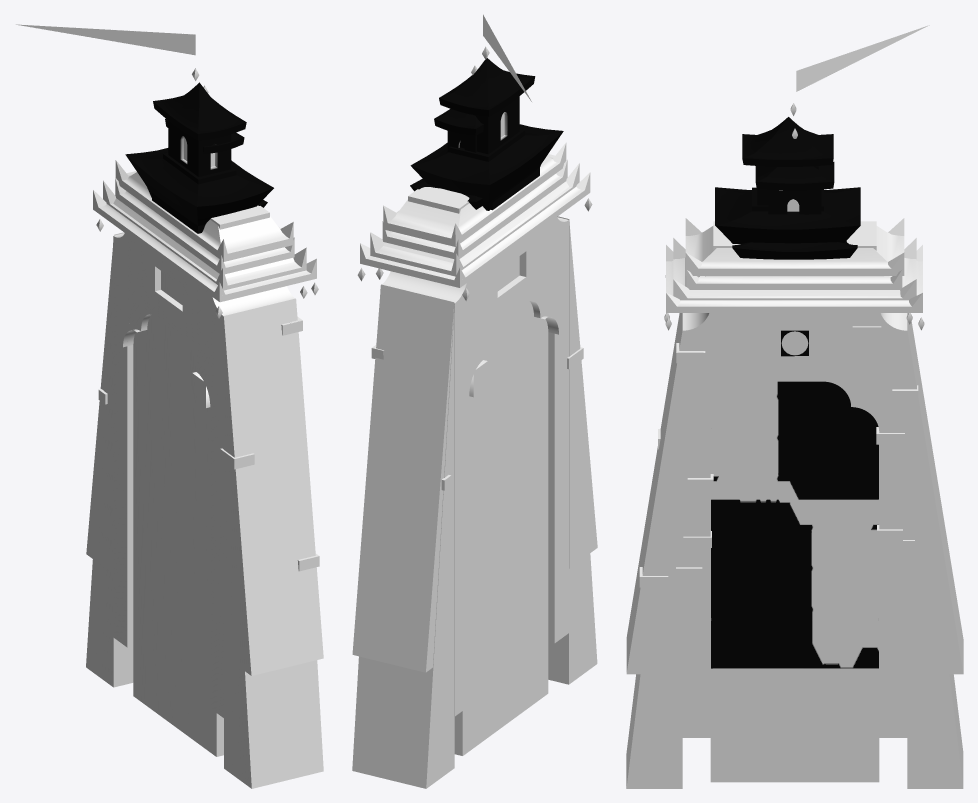
Rendered from SeaGate_ExitScene.fbx.
3 renders of one model, left to right at view 1: azimuth 30°, elevation 25°; view 2: azimuth 150°, elevation 25°; view 3: azimuth 270°, elevation 25°, orthographic. The views are drawn at different scales.
Visible parts, largest first — view 1: Whitebox_Slope (×4), DepthFadeCube, Rooftop_Rescue_Huge, Whitebox_cube (6), Whitebox_cube (13), Rooftops_Four_Point_Village_Middle_Wide, Rooftops_Four_Point_Village_Middle (1), Rooftops_Four_Point_Village_Middle_Wide (1), Rooftops_Four_Point_Village_Middle, Flag, Whitebox_cube (12), Whitebox_cube (11) (+5 smaller); view 2: Whitebox_Slope (×4), DepthFadeCube, Rooftop_Rescue_Huge (×2), Whitebox_cube (6) (×2), Whitebox_cube (13), Rooftops_Four_Point_Village_Middle_Wide, Rooftops_Four_Point_Village_Middle (1), Rooftops_Four_Point_Village_Middle_Wide (1), Rooftops_Four_Point_Village_Middle, Whitebox_cube (12), Whitebox_cube (11), Whitebox_Concave (+5 smaller); view 3: Whitebox_Slope (×4), Doors_SlidingDoor_Top, DepthFadeCube, Doors_SlidingDoor_Top (1), Rooftop_Rescue_Huge (×2), Whitebox_cube (6) (×2), Whitebox_cube (×2), Rooftops_Four_Point_Village_Middle (1), Rooftops_Four_Point_Village_Middle_Wide, Rooftops_Four_Point_Village_Middle_Wide (1), Rooftops_Four_Point_Village_Middle, Whitebox_cube (7) (+7 smaller).
Part boxes in pixels (box(x1,y1,x2,y2)): Whitebox_Slope (×4): box(86, 232, 323, 788); DepthFadeCube: box(133, 271, 223, 756); Rooftop_Rescue_Huge: box(125, 82, 273, 233); Whitebox_cube (6): box(113, 236, 133, 647); Whitebox_cube (13): box(210, 307, 223, 717); Rooftops_Four_Point_Village_Middle_Wide: box(93, 190, 316, 302); Rooftops_Four_Point_Village_Middle (1): box(115, 160, 293, 261); Rooftops_Four_Point_Village_Middle_Wide (1): box(115, 178, 294, 274); Rooftops_Four_Point_Village_Middle: box(103, 180, 306, 290); Flag: box(16, 24, 195, 55); Whitebox_cube (12): box(196, 285, 210, 381); Whitebox_cube (11): box(127, 235, 140, 330); Whitebox_Slope (×4): box(352, 216, 597, 788); DepthFadeCube: box(454, 256, 548, 755); Rooftop_Rescue_Huge (×2): box(410, 58, 563, 210); Whitebox_cube (6) (×2): box(454, 296, 554, 716); Whitebox_cube (13): box(548, 220, 568, 643); Rooftops_Four_Point_Village_Middle_Wide: box(360, 172, 590, 287); Rooftops_Four_Point_Village_Middle (1): box(383, 142, 566, 246); Rooftops_Four_Point_Village_Middle_Wide (1): box(382, 159, 567, 259); Rooftops_Four_Point_Village_Middle: box(370, 163, 579, 276); Whitebox_cube (12): box(540, 219, 554, 317); Whitebox_cube (11): box(469, 271, 483, 369); Whitebox_Concave: box(382, 271, 466, 303); Whitebox_Slope (×4): box(626, 313, 963, 788); Doors_SlidingDoor_Top: box(711, 499, 878, 668); DepthFadeCube: box(710, 431, 879, 782); Doors_SlidingDoor_Top (1): box(711, 381, 878, 499); Rooftop_Rescue_Huge (×2): box(715, 117, 860, 259); Whitebox_cube (6) (×2): box(682, 330, 907, 737); Whitebox_cube (×2): box(713, 221, 907, 686); Rooftops_Four_Point_Village_Middle (1): box(685, 218, 904, 275); Rooftops_Four_Point_Village_Middle_Wide: box(666, 245, 922, 312); Rooftops_Four_Point_Village_Middle_Wide (1): box(686, 270, 902, 289); Rooftops_Four_Point_Village_Middle: box(673, 238, 916, 300); Whitebox_cube (7): box(710, 313, 738, 406).
Bounding box in the file's own units: 7.25 × 27.35 × 12.
Materials: 9 (2 with a texture image).
